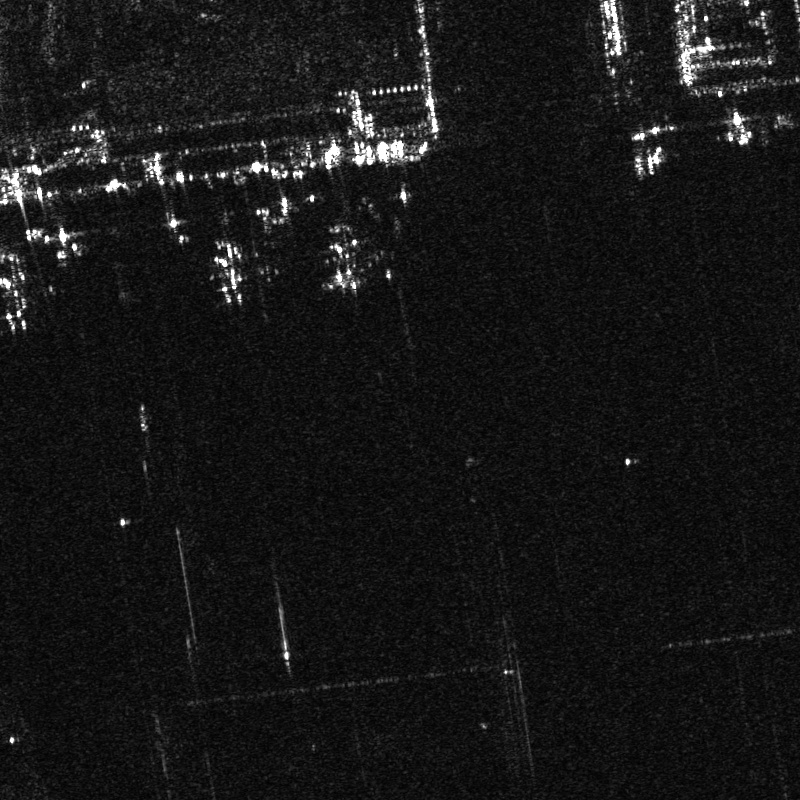Boeing787: (196, 232, 265, 309), (318, 226, 381, 294)
